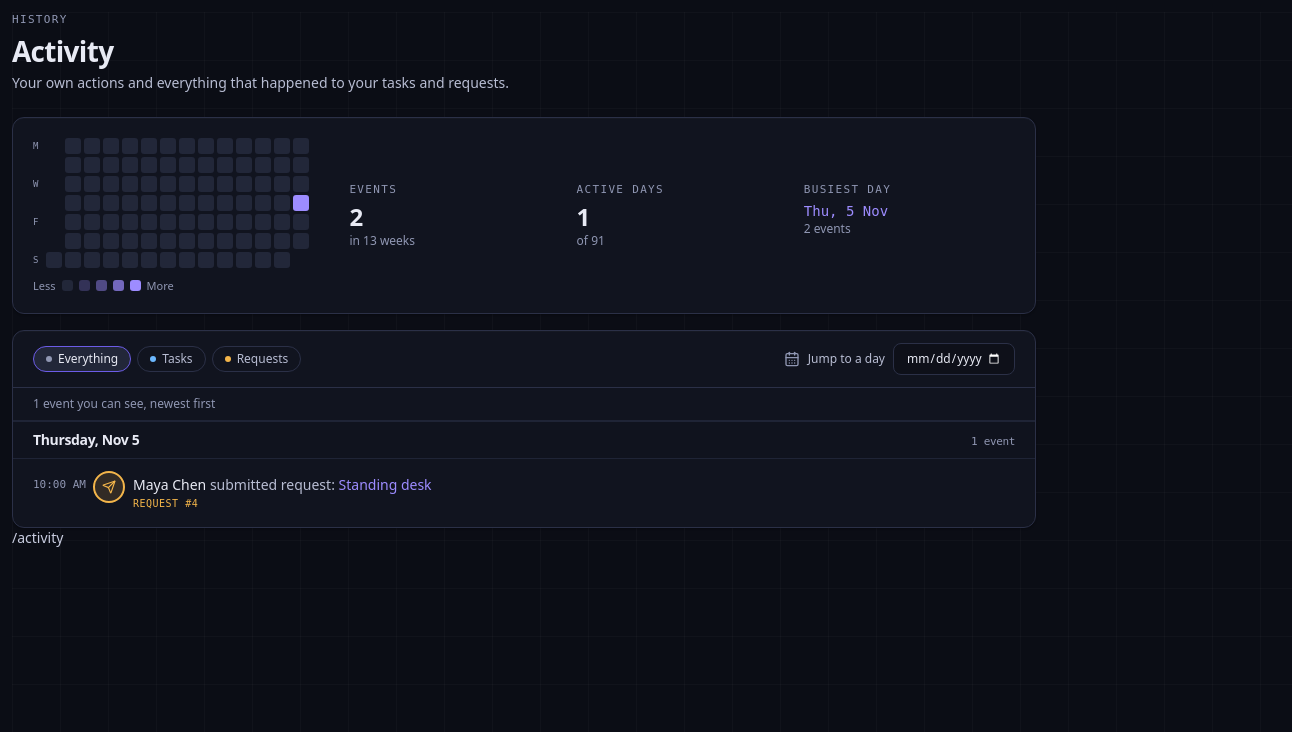
History › filters the timeline to the day picked on the pulse ribbon
The width and height of the screenshot is (1292, 732).
Click the button named ": 2 events" at [301, 203], box top-left (293, 195), bottom-right (309, 211)
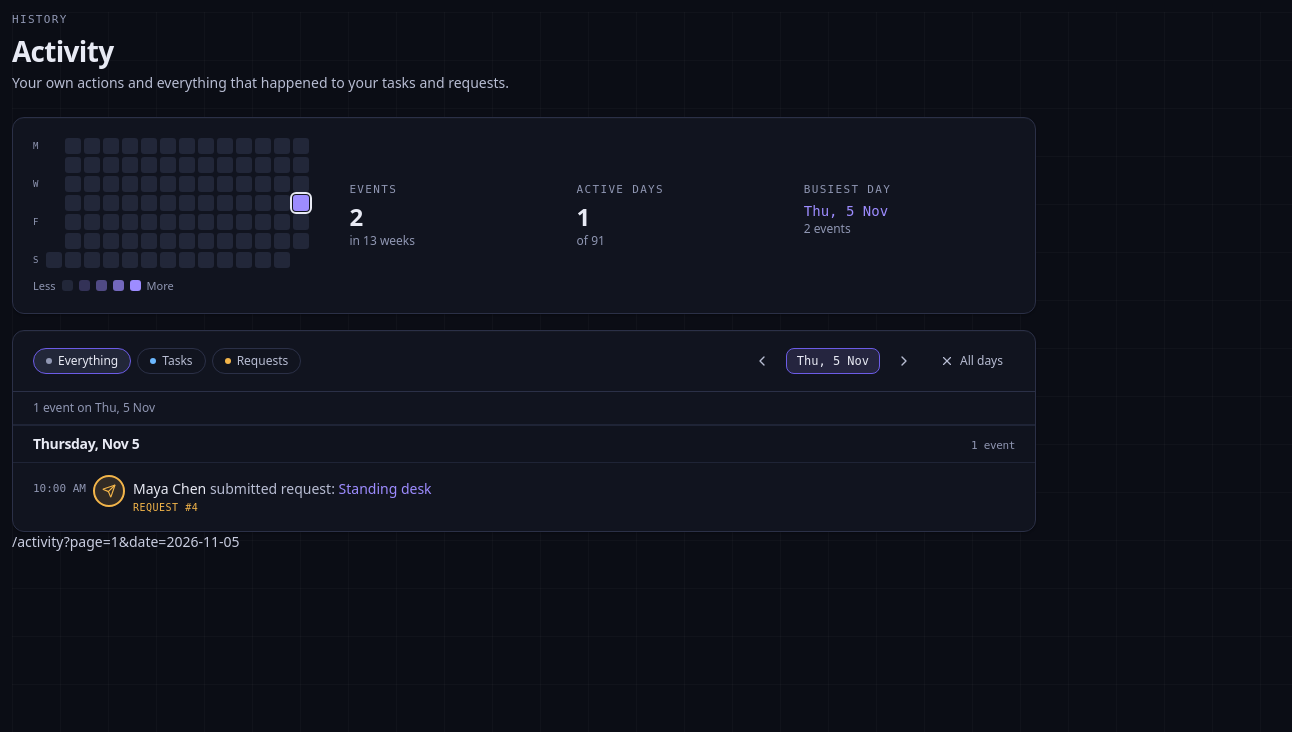
Click the button named "Previous day" at [762, 361], box top-left (744, 343), bottom-right (780, 379)
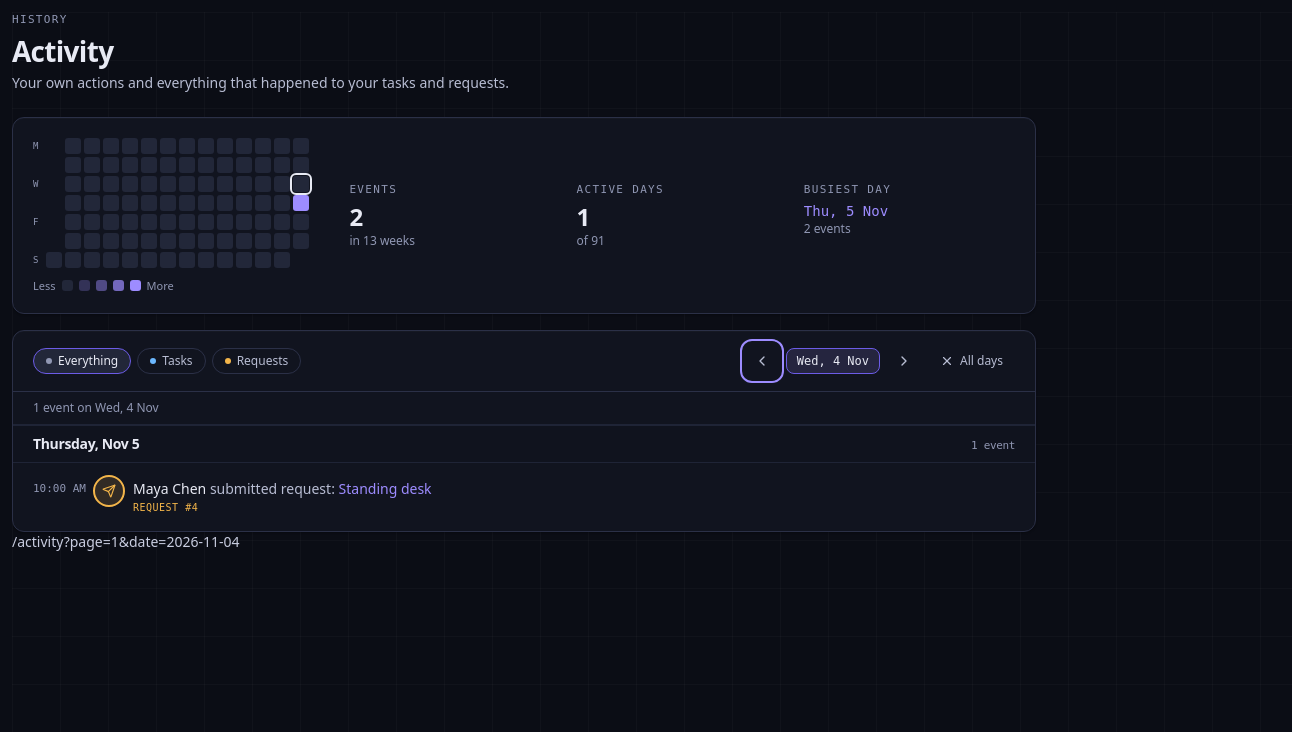
Click the button "All days" at [972, 361], box top-left (928, 345), bottom-right (1015, 377)
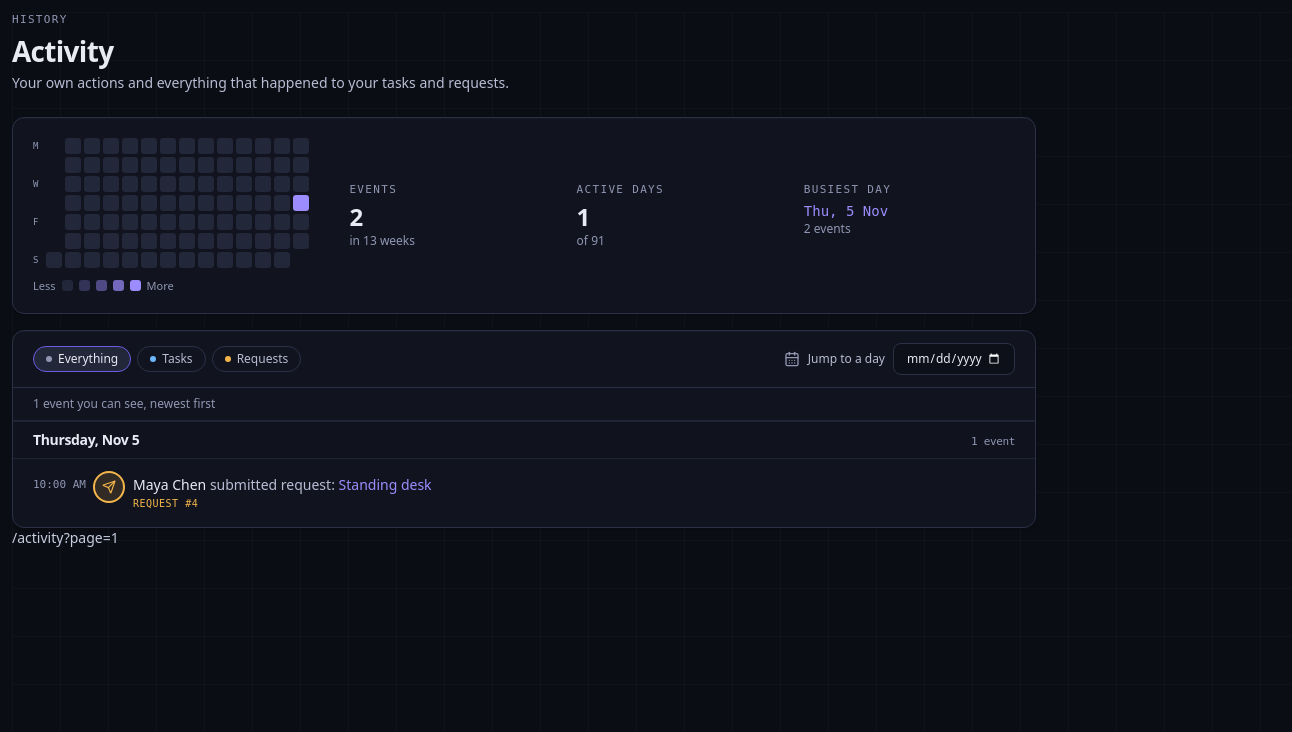
Expected: the text with test id "url" no longer shows "date=", top-left (12, 528), bottom-right (119, 547)
